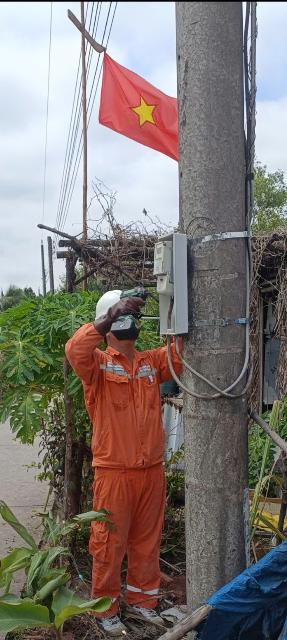gloves: (87, 289, 142, 339)
helmet: (97, 279, 144, 339)
shoes: (128, 597, 165, 633), (96, 605, 123, 640)
